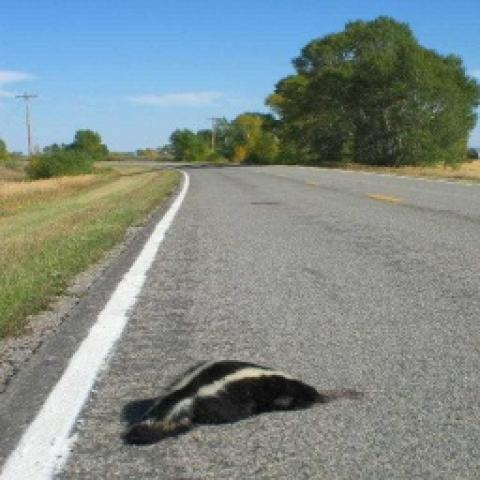small_animal: (118, 354, 326, 446)
